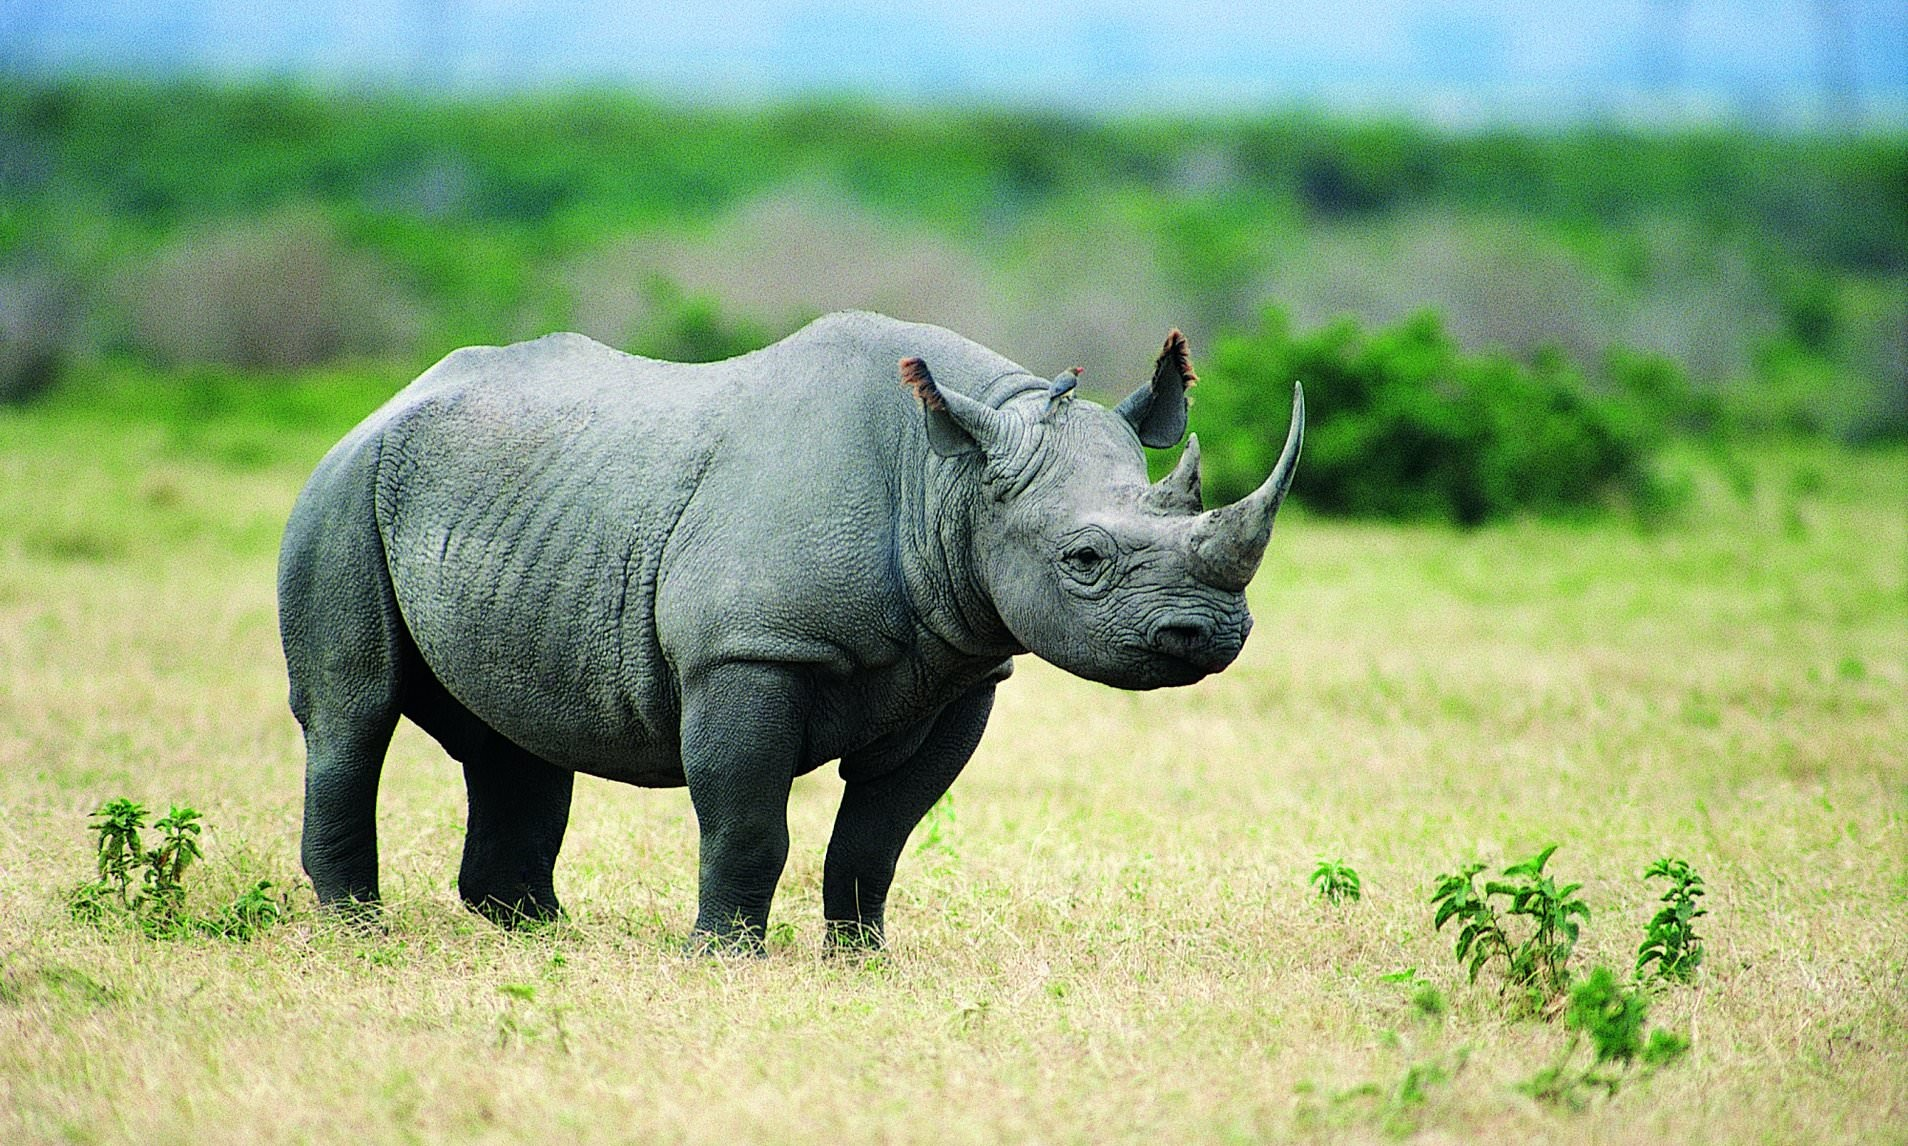rhino: (271, 301, 1314, 980)
